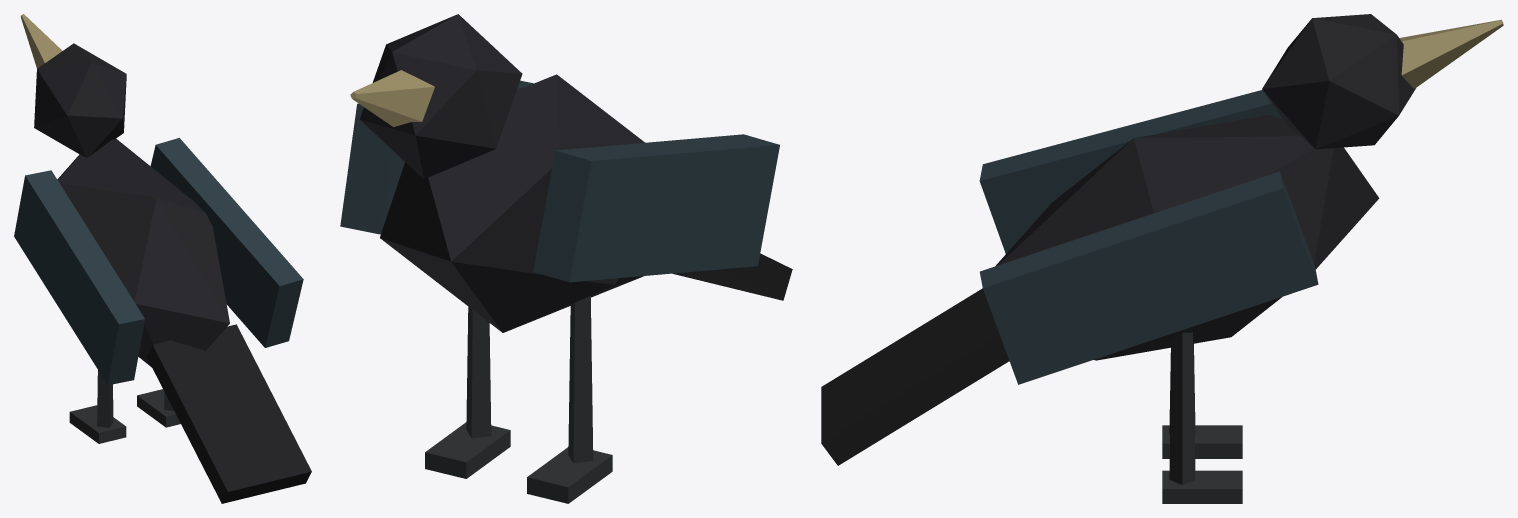
Rendered from crow_perched.glb.
The picture shows the model from 3 angles, left to right: view 1: azimuth 30°, elevation 25°; view 2: azimuth 150°, elevation 25°; view 3: azimuth 270°, elevation 25°; orthographic projection. The views are drawn at different scales.
Parts seen in each view (by area): view 1: crow_perched; view 2: crow_perched; view 3: crow_perched.
Part boxes in pixels (x1,y1,x2,y2): crow_perched: (14, 14, 311, 503); crow_perched: (340, 14, 792, 503); crow_perched: (821, 14, 1503, 503).
Bounding box in the file's own units: 0.176 × 0.3001 × 0.4089.
Materials: 3 (3 with a texture image).
